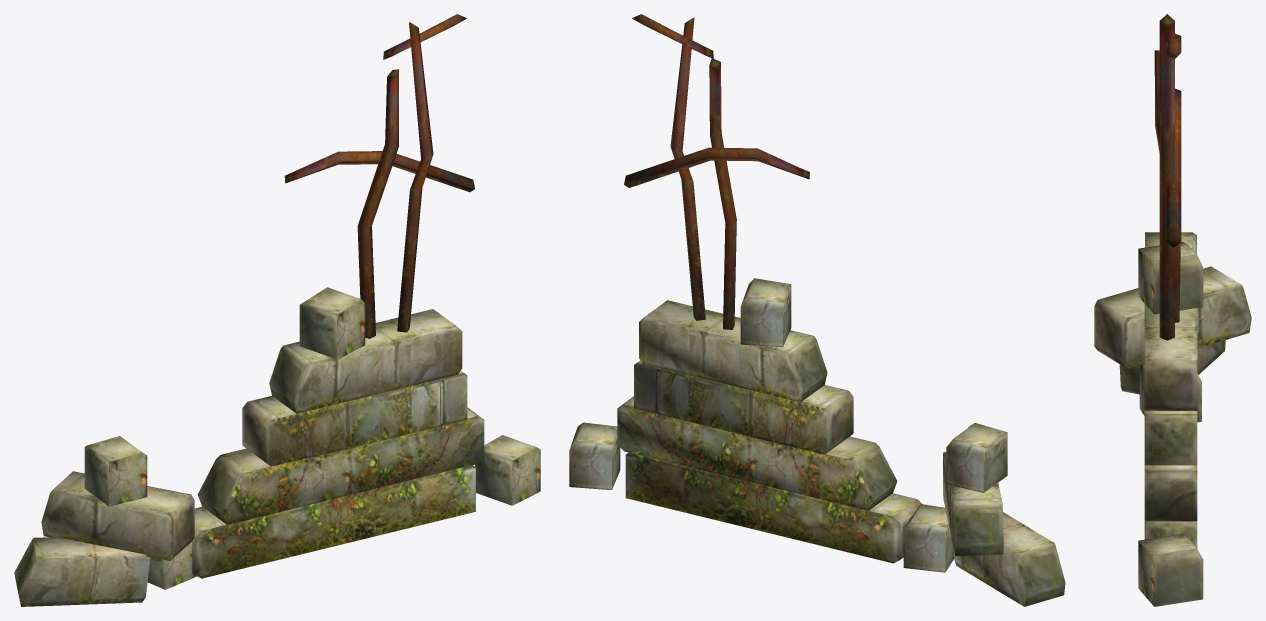
File: a_SWCwallB02.glb
3 renders of one model, left to right at view 1: azimuth 30°, elevation 25°; view 2: azimuth 150°, elevation 25°; view 3: azimuth 270°, elevation 25°, orthographic. The views are drawn at different scales.
Parts seen in each view (by area): view 1: a_SWCwallB02; view 2: a_SWCwallB02; view 3: a_SWCwallB02.
Part boxes in pixels (x1=…): a_SWCwallB02: x1=14, y1=14, x2=540, y2=606; a_SWCwallB02: x1=569, y1=14, x2=1065, y2=606; a_SWCwallB02: x1=1094, y1=14, x2=1251, y2=606.
Bounding box in the file's own units: 3.02 × 2.8 × 0.7577.
1 material, 1 textured.
